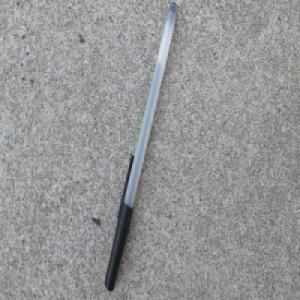Pen: (102, 0, 179, 294)
